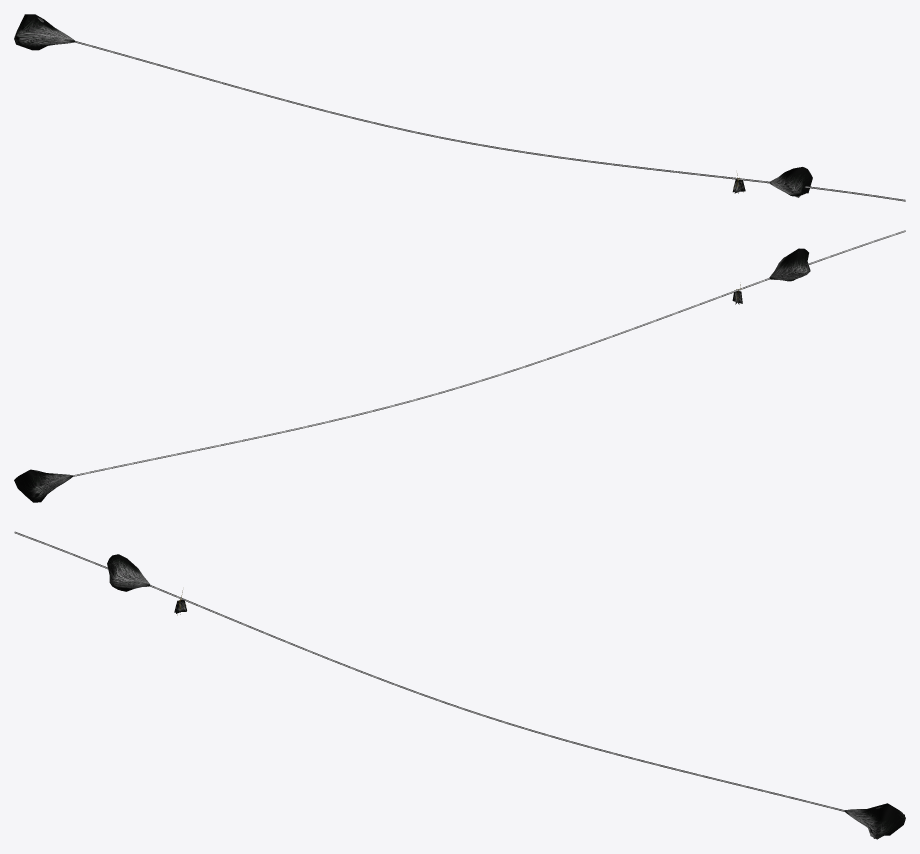
File: INST_MIRK_WEBZIPLINEA.fbx
The picture shows the model from 3 angles, top to bottom: view 1: azimuth 90°, elevation 25°; view 2: azimuth 150°, elevation 25°; view 3: azimuth 270°, elevation 25°; orthographic projection. The views are drawn at different scales.
Parts seen in each view (by area): view 1: INST_MIRK_WEBZIPLINEA; view 2: INST_MIRK_WEBZIPLINEA; view 3: INST_MIRK_WEBZIPLINEA.
Part boxes in pixels (bbox=[...]): INST_MIRK_WEBZIPLINEA: bbox=[14, 14, 905, 201]; INST_MIRK_WEBZIPLINEA: bbox=[14, 230, 905, 502]; INST_MIRK_WEBZIPLINEA: bbox=[14, 531, 905, 839].
Size of the model in its own units: 306122 by 48224 by 482617.
Materials: 4 (4 with a texture image).
